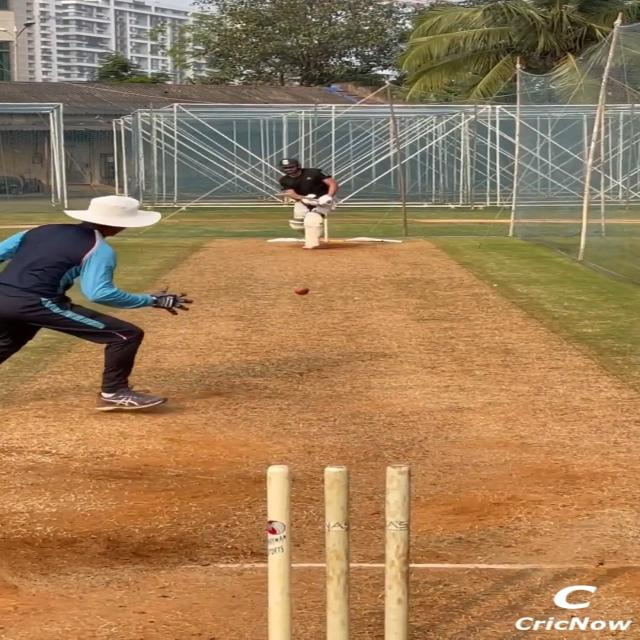ball: (293, 286, 310, 296)
stump: (266, 463, 421, 640)
